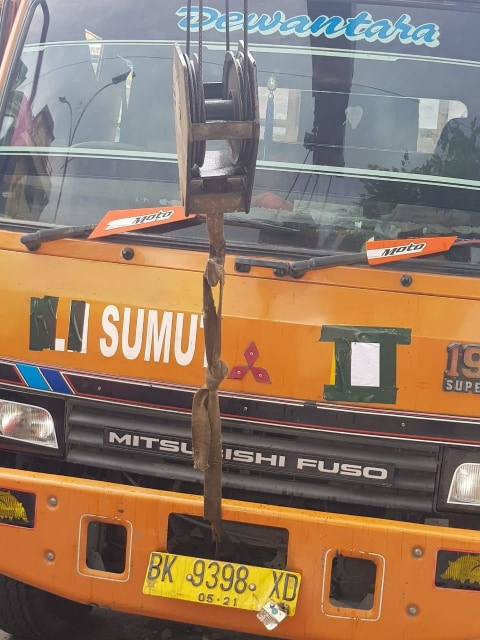plate: (143, 548, 302, 611)
